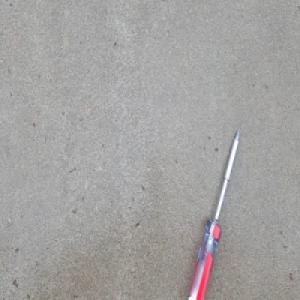Screwdriver: (186, 127, 241, 300)
